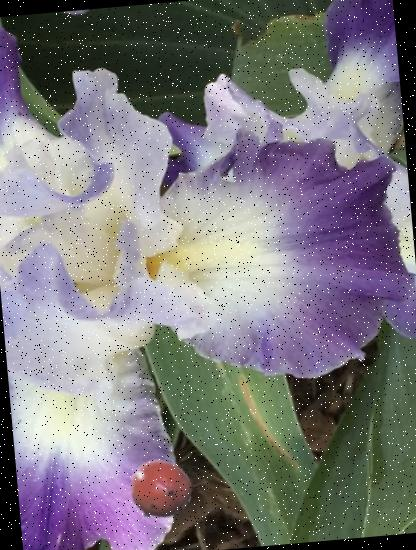Kaki: (126, 456, 195, 526)
